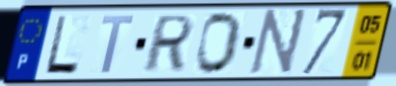7: (299, 7, 351, 77)
L: (42, 14, 81, 77)
N: (246, 7, 311, 78)
O: (193, 10, 245, 76)
R: (139, 13, 198, 75)
T: (99, 13, 137, 75)
